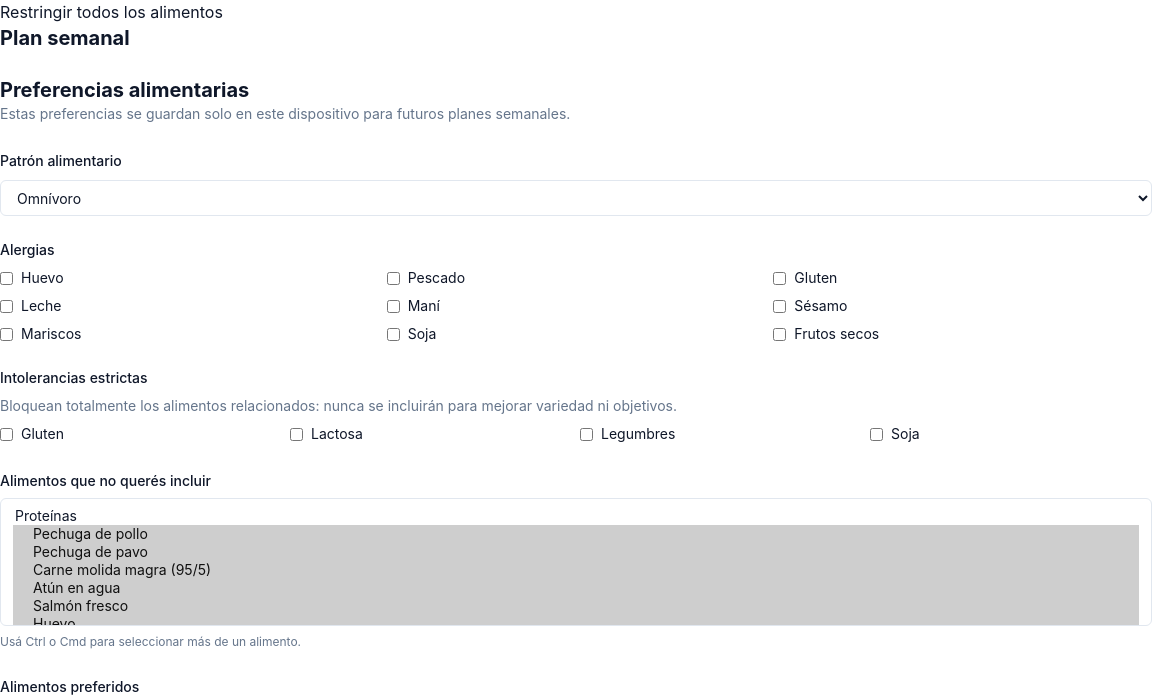
Test: WeeklyPlan › stages preference edits until the user explicitly updates the plan
The image size is (1152, 700).
Select "Pechuga de pollo" in the dropdown labelled "Alimentos que no querés incluir" at (576,562), box [0,498,1151,626]
(page scrolled)
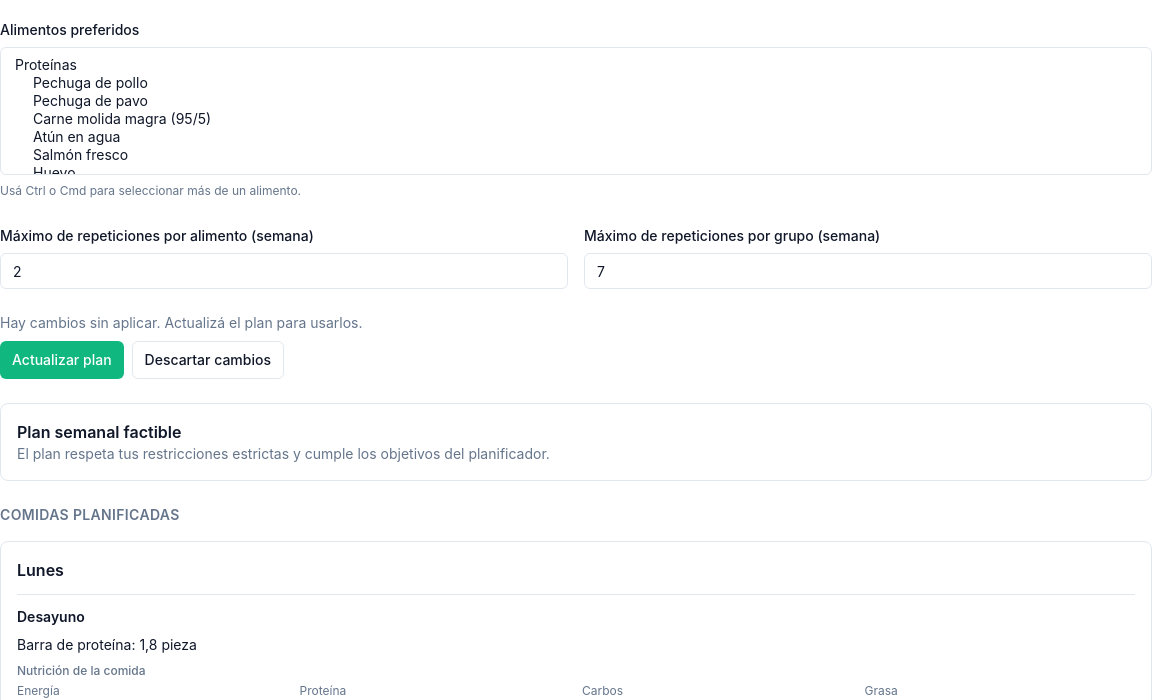
Expected: the heading "Lunes" is shown, [17,560,64,580]
Expected: the button "Actualizar plan" is enabled
Click the button "Actualizar plan".
click(62, 360)  # box [0,341,124,379]
(page scrolled)
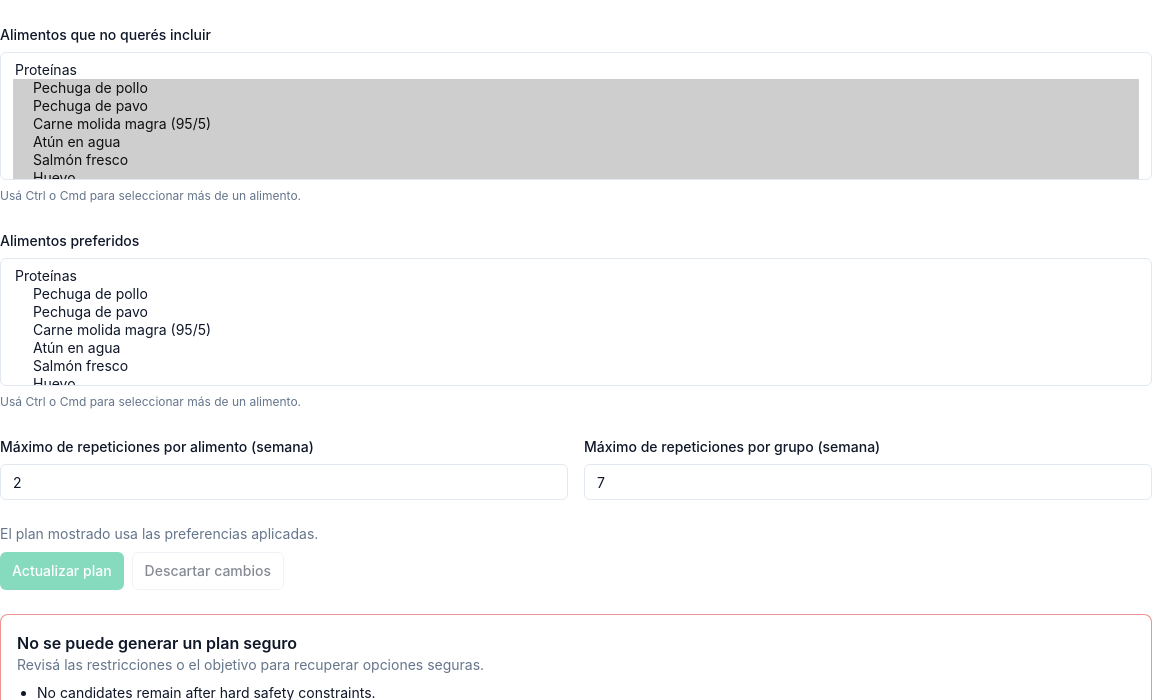
Expected: the message shows "No se puede generar un plan seguro", [17,633,297,653]
Expected: the heading "Lunes" is gone
